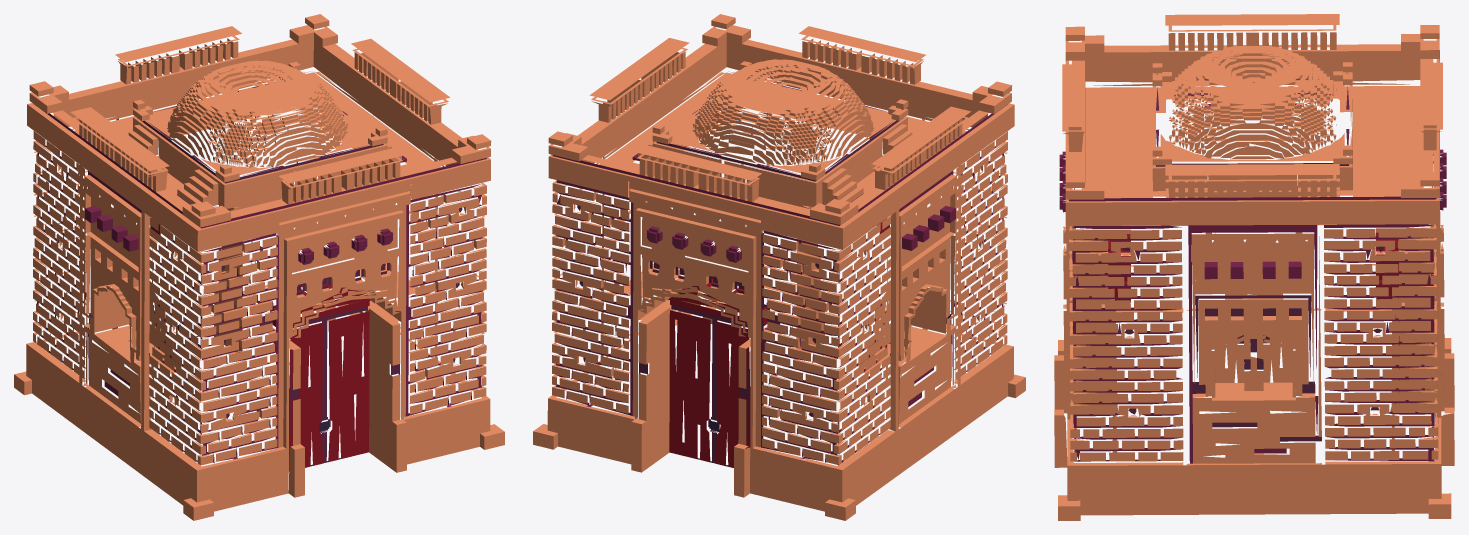
File: b_ancient.glb
The picture shows the model from 3 angles, left to right: view 1: azimuth 30°, elevation 25°; view 2: azimuth 150°, elevation 25°; view 3: azimuth 270°, elevation 25°; orthographic projection. The views are drawn at different scales.
Visible parts, largest first — view 1: Body; view 2: Body; view 3: Body.
Part boxes in pixels (box(x1,y1,x2,y2)): Body: box(14, 14, 504, 520); Body: box(533, 14, 1025, 520); Body: box(1054, 14, 1454, 520).
Size of the model in its own units: 11.8 by 12.23 by 12.
1 material, 1 textured.
